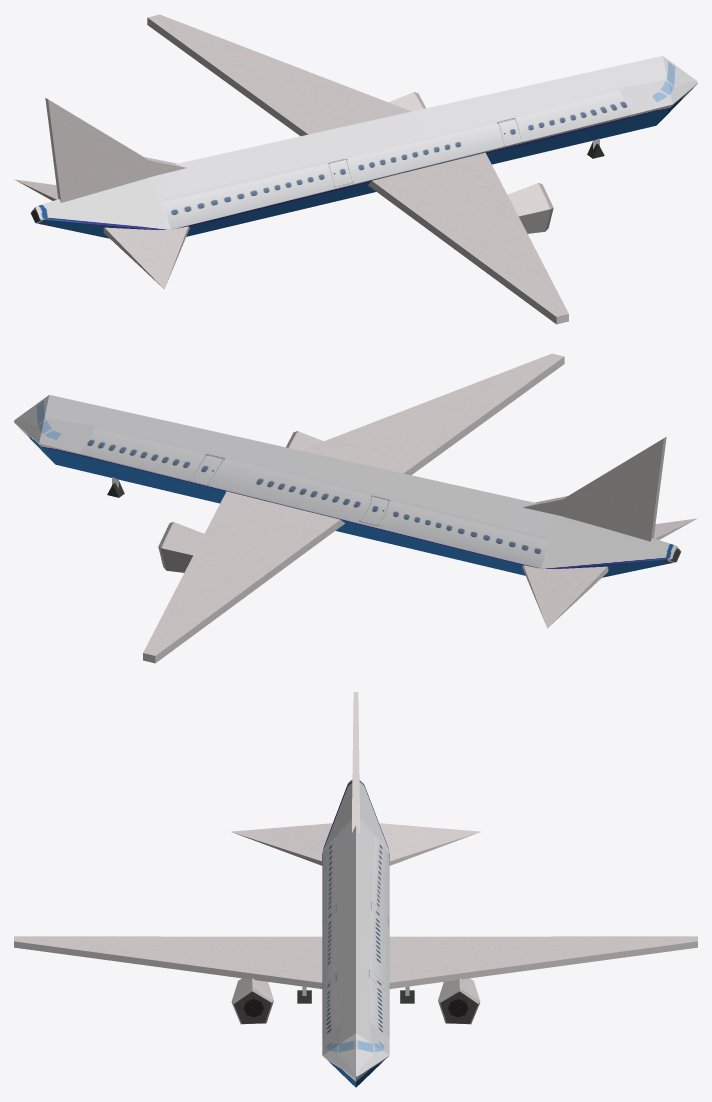
The model's file is AviaoLOD1.fbx.
3 views of the same model, one above another, from view 1: azimuth 30°, elevation 25°; view 2: azimuth 150°, elevation 25°; view 3: azimuth 270°, elevation 25° (orthographic). The views are drawn at different scales.
Visible parts, largest first — view 1: aviaoLOD1; view 2: aviaoLOD1; view 3: aviaoLOD1.
Boxes of the visible parts, x1,y1,x2,y2 form: aviaoLOD1: (14, 14, 697, 324); aviaoLOD1: (14, 353, 697, 663); aviaoLOD1: (14, 692, 697, 1087).
Bounding box in the file's own units: 2447 × 674 × 2619.
Materials: 1 (1 with a texture image).
